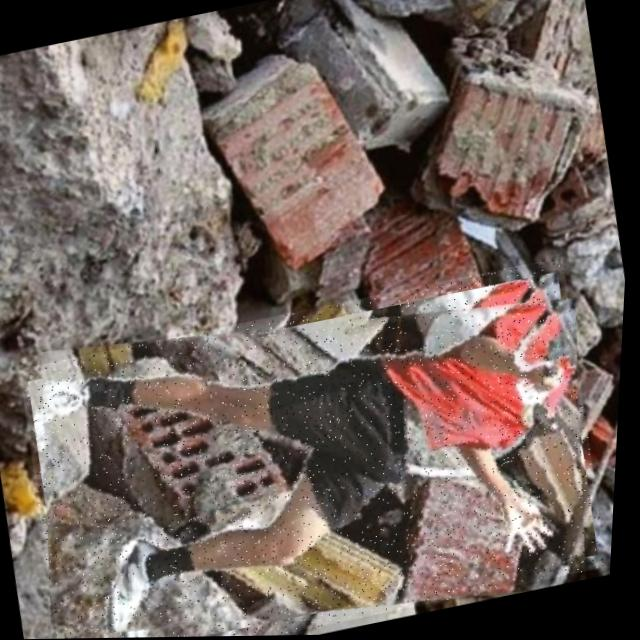Person in Rubble: (11, 258, 624, 640)
